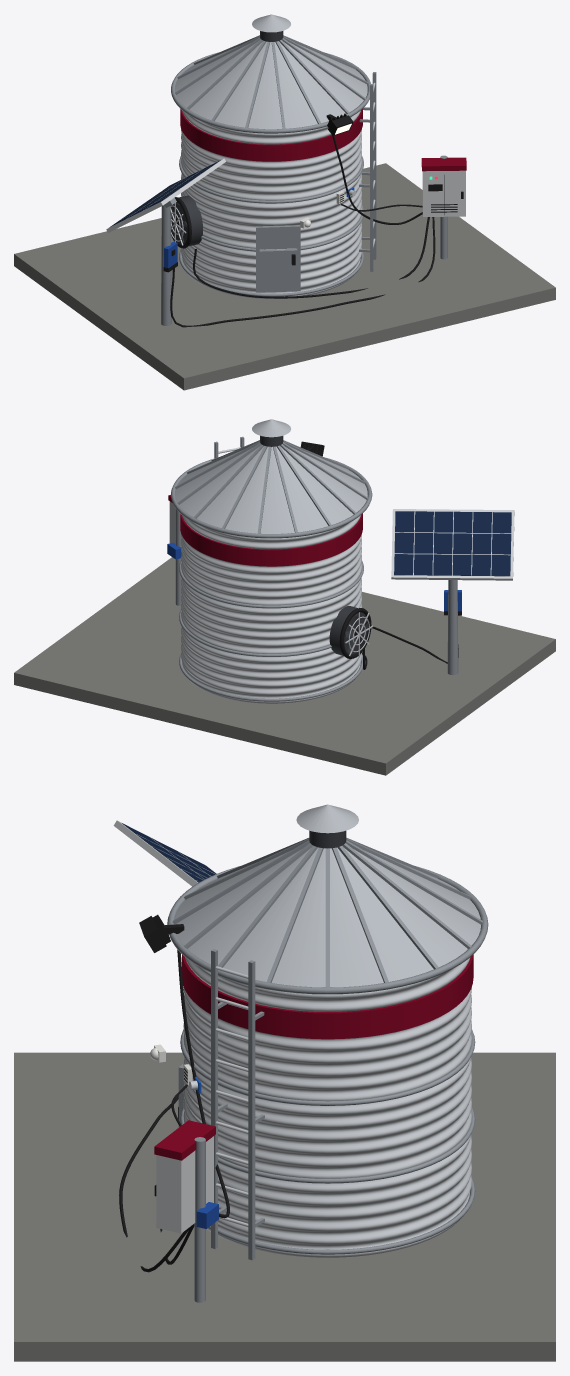
The model's file is agri-shield-silo.glb.
3 renders of one model, top to bottom at view 1: azimuth 30°, elevation 25°; view 2: azimuth 150°, elevation 25°; view 3: azimuth 270°, elevation 25°, orthographic. The views are drawn at different scales.
Parts seen in each view (by area): view 1: AgriShieldSilo_Concrete, AgriShieldSilo_GalvanizedSteel, AgriShieldSilo_SteelBand, AgriShieldSilo_RoofSteel, AgriShieldSilo_AgriShieldBurgundy, AgriShieldSilo_BlackPlastic, AgriShieldSilo_Enclosure, AgriShieldSilo_FanHousing, AgriShieldSilo_Aluminium, AgriShieldSilo_SolarCells; view 2: AgriShieldSilo_Concrete, AgriShieldSilo_GalvanizedSteel, AgriShieldSilo_RoofSteel, AgriShieldSilo_SteelBand, AgriShieldSilo_SolarCells, AgriShieldSilo_AgriShieldBurgundy, AgriShieldSilo_Aluminium, AgriShieldSilo_FanHousing, AgriShieldSilo_BlackPlastic; view 3: AgriShieldSilo_Concrete, AgriShieldSilo_GalvanizedSteel, AgriShieldSilo_RoofSteel, AgriShieldSilo_SteelBand, AgriShieldSilo_AgriShieldBurgundy, AgriShieldSilo_Enclosure, AgriShieldSilo_BlackPlastic, AgriShieldSilo_SolarCells, AgriShieldSilo_Aluminium.
Part boxes in pixels (<box>): AgriShieldSilo_Concrete: <box>14,163,555,390</box>; AgriShieldSilo_GalvanizedSteel: <box>170,82,375,298</box>; AgriShieldSilo_SteelBand: <box>161,35,447,325</box>; AgriShieldSilo_RoofSteel: <box>175,14,367,129</box>; AgriShieldSilo_AgriShieldBurgundy: <box>180,109,466,171</box>; AgriShieldSilo_BlackPlastic: <box>163,113,463,327</box>; AgriShieldSilo_Enclosure: <box>422,170,465,216</box>; AgriShieldSilo_FanHousing: <box>171,31,283,246</box>; AgriShieldSilo_Aluminium: <box>106,158,225,232</box>; AgriShieldSilo_SolarCells: <box>109,160,220,227</box>; AgriShieldSilo_Concrete: <box>14,557,555,775</box>; AgriShieldSilo_GalvanizedSteel: <box>181,447,373,703</box>; AgriShieldSilo_RoofSteel: <box>175,419,367,533</box>; AgriShieldSilo_SteelBand: <box>171,436,458,701</box>; AgriShieldSilo_SolarCells: <box>394,511,511,576</box>; AgriShieldSilo_AgriShieldBurgundy: <box>168,495,362,566</box>; AgriShieldSilo_Aluminium: <box>391,509,514,580</box>; AgriShieldSilo_FanHousing: <box>260,435,367,655</box>; AgriShieldSilo_BlackPlastic: <box>300,441,461,669</box>; AgriShieldSilo_Concrete: <box>14,1052,555,1361</box>; AgriShieldSilo_GalvanizedSteel: <box>183,957,471,1257</box>; AgriShieldSilo_RoofSteel: <box>175,804,480,987</box>; AgriShieldSilo_SteelBand: <box>167,837,488,1302</box>; AgriShieldSilo_AgriShieldBurgundy: <box>154,954,473,1160</box>; AgriShieldSilo_Enclosure: <box>156,1136,213,1233</box>; AgriShieldSilo_BlackPlastic: <box>119,914,229,1272</box>; AgriShieldSilo_SolarCells: <box>122,823,216,882</box>; AgriShieldSilo_Aluminium: <box>113,820,216,886</box>.
Size of the model in its own units: 5.02 by 3.19 by 3.8.
